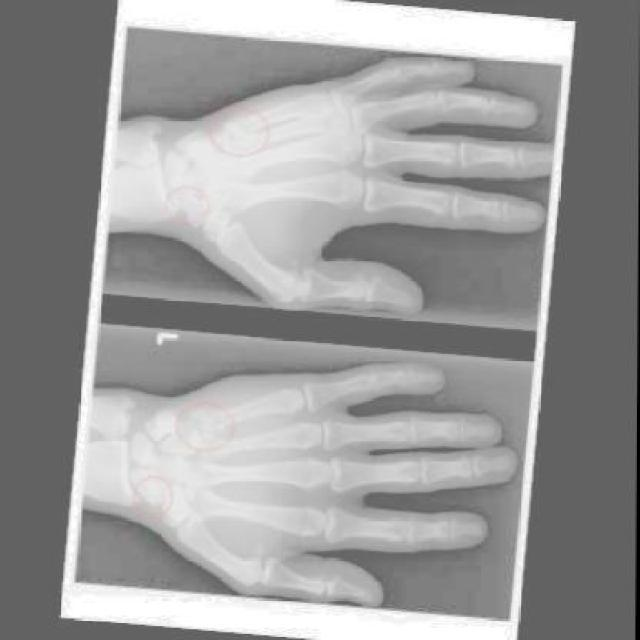Fracture: (225, 120, 267, 159), (137, 479, 179, 516), (191, 414, 231, 450), (171, 189, 208, 226)
